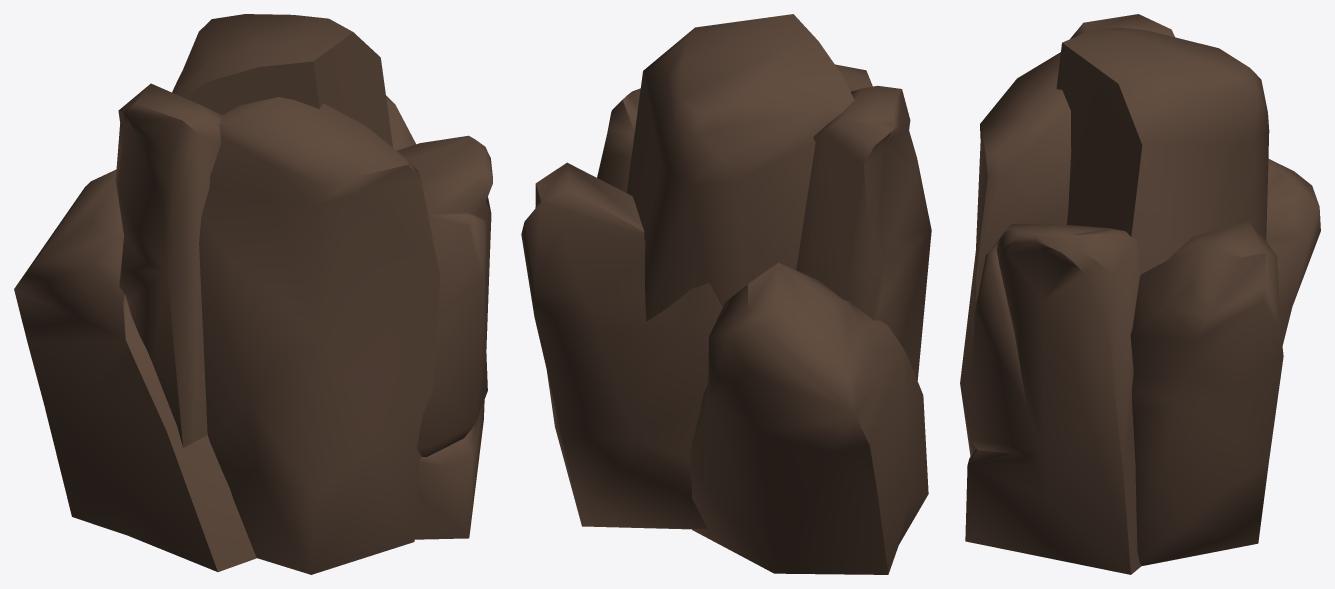
Rendered from Rock_11.fbx.
The picture shows the model from 3 angles, left to right: view 1: azimuth 30°, elevation 25°; view 2: azimuth 150°, elevation 25°; view 3: azimuth 270°, elevation 25°; orthographic projection. The views are drawn at different scales.
Parts seen in each view (by area): view 1: PP_Rock_Pile_Forest_Moss_05.001; view 2: PP_Rock_Pile_Forest_Moss_05.001; view 3: PP_Rock_Pile_Forest_Moss_05.001.
Part boxes in pixels (x1,y1,x2,y2): PP_Rock_Pile_Forest_Moss_05.001: (14, 14, 492, 574); PP_Rock_Pile_Forest_Moss_05.001: (521, 14, 931, 574); PP_Rock_Pile_Forest_Moss_05.001: (960, 14, 1320, 574).
Size of the model in its own units: 4.61 by 4.02 by 5.57.
